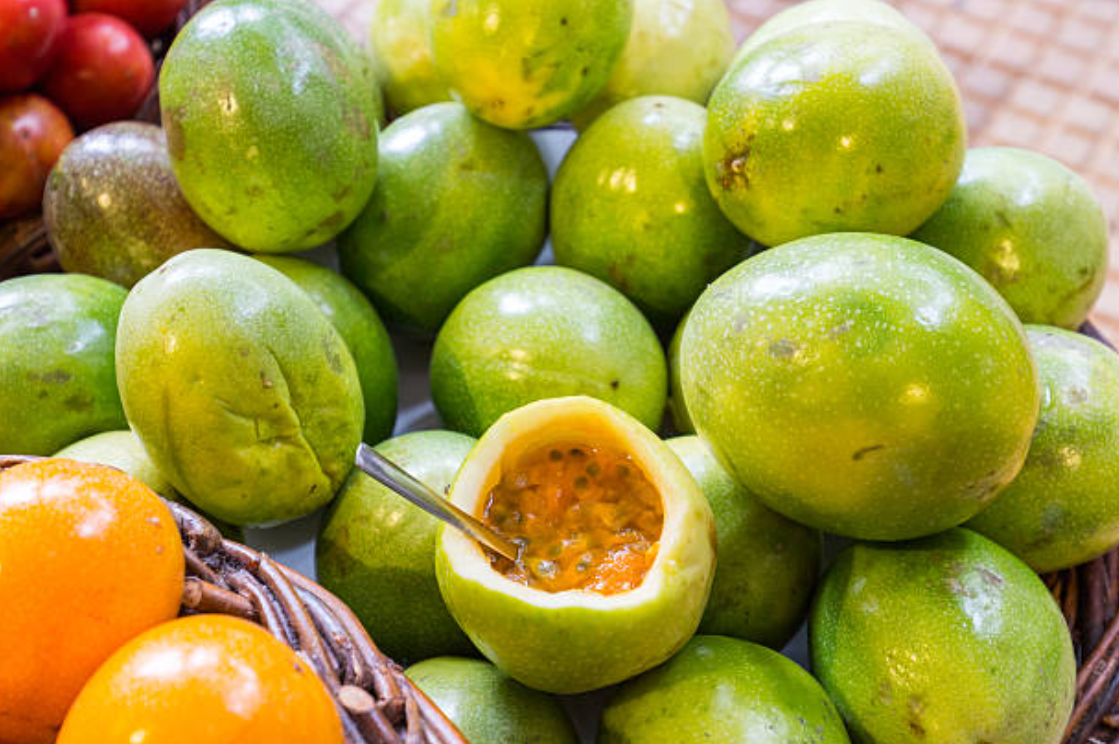maracuya: (666, 219, 1042, 547), (116, 246, 366, 539)
